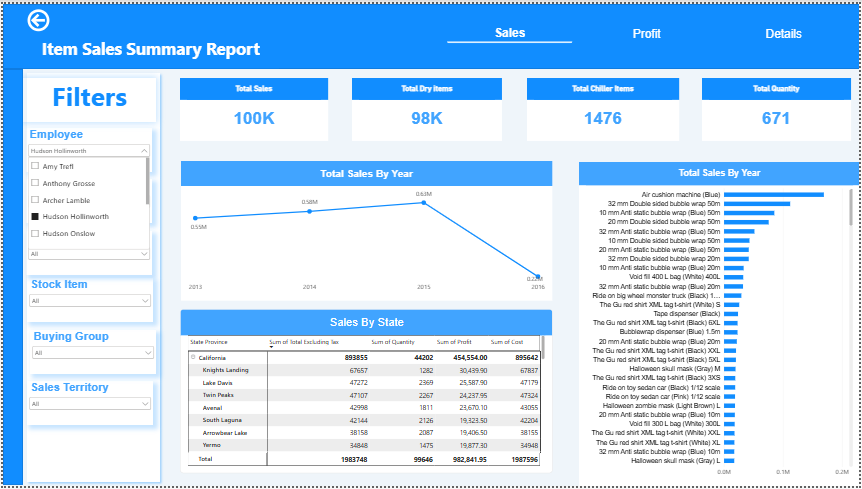

What the dashboard file says about the page in this screenshot:
{"tool":"powerbi","page":{"name":"Sales","canvas":[1920,1080],"ordinal":0},"visuals":[{"type":"pivotTable","title":"Sales By State","fields":{"Rows":["DimCity.State Province","DimCity.City"],"Values":["Sum(FactSale.Total Excluding Tax)","Sum(FactSale.Quantity)","Sum(FactSale.Profit)","Sum(FactSale.Cost)"]},"box":[395.7,683,835,368.3],"z":0},{"type":"card","title":"Total Sales","fields":{"Values":["Sum(FactSale.Quantity)"]},"box":[396.6,165.8,331.6,141.2],"z":1000},{"type":"shape","box":[0,0,1920.2,145.6],"z":2000},{"type":"shape","box":[44.8,145.6,315.9,934.4],"z":3000},{"type":"slicer","fields":{"Values":["DimEmpolyee.Employee"]},"box":[51.1,278.7,283,97.9],"z":4000},{"type":"textbox","box":[44.8,165.8,298,98.6],"z":5000},{"type":"shape","box":[0,145.6,44.8,932.1],"z":6000},{"type":"textbox","box":[44.7,74.5,572.3,70.2],"z":7000},{"type":"card","title":"Total Quantity","fields":{"Values":["CountNonNull(DimStockItem.Quantity Per Outer)"]},"box":[1566.2,165.8,333.9,141.2],"z":8000},{"type":"card","title":"Total Chiller Items","fields":{"Values":["Sum(FactSale.Total Chiller Items)"]},"box":[1174.1,165.8,340.6,141.2],"z":9000},{"type":"card","title":"Total Dry items","fields":{"Values":["Sum(FactSale.Total Dry Items)"]},"box":[782,165.8,336.1,141.2],"z":10000},{"type":"barChart","title":" Total Sales By Year","fields":{"Category":["DimStockItem.Stock Item"],"Y":["Sum(FactSale.Total Excluding Tax)"]},"box":[1290.6,354,629.6,726],"z":11000},{"type":"lineChart","title":" Total Sales By Year","fields":{"Category":["DimData.Date.Variation.Date Hierarchy.Year","DimData.Date.Variation.Date Hierarchy.Quarter","DimData.Date.Variation.Date Hierarchy.Month","DimData.Date.Variation.Date Hierarchy.Day"],"Y":["Sum(FactSale.Total Excluding Tax)"]},"box":[397.9,351.1,831.9,312.8],"z":12000},{"type":"slicer","fields":{"Values":["DimCustomer.Customer"]},"box":[51.1,391.5,283,97.9],"z":13000},{"type":"slicer","fields":{"Values":["DimCity.City"]},"box":[51.1,508.5,283,97.9],"z":14000},{"type":"slicer","fields":{"Values":["DimCustomer.Buying Group"]},"box":[59.6,729.8,283,97.9],"z":15000},{"type":"actionButton","box":[0,0,159.6,72.3],"z":17000},{"type":"pageNavigator","box":[985.1,36.2,914.9,61.7],"z":18000},{"type":"slicer","fields":{"Values":["DimStockItem.Stock Item"]},"box":[53.8,613.9,283,97.9],"z":19000},{"type":"slicer","fields":{"Values":["DimCity.Sales Territory"]},"box":[53.8,844.7,283,97.9],"z":19001}]}

Visuals, with their boxes in screenshot pixels (x1, y1, x2, y2), scaled from the page's 1920x1080 canvas onto the 862x489 screenshot:
"Sales By State" pivotTable: 178/309/553/476
"Total Sales" card: 178/75/327/139
shape: 0/0/861/66
shape: 20/66/162/488
slicer - DimEmpolyee.Employee: 23/126/150/171
textbox: 20/75/154/120
shape: 0/66/20/488
textbox: 20/34/277/66
"Total Quantity" card: 703/75/853/139
"Total Chiller Items" card: 527/75/680/139
"Total Dry items" card: 351/75/502/139
" Total Sales By Year" barChart: 579/160/861/488
" Total Sales By Year" lineChart: 179/159/552/301
slicer - DimCustomer.Customer: 23/177/150/222
slicer - DimCity.City: 23/230/150/275
slicer - DimCustomer.Buying Group: 27/330/154/375
actionButton: 0/0/72/33
pageNavigator: 442/16/853/44
slicer - DimStockItem.Stock Item: 24/278/151/322
slicer - DimCity.Sales Territory: 24/382/151/427
